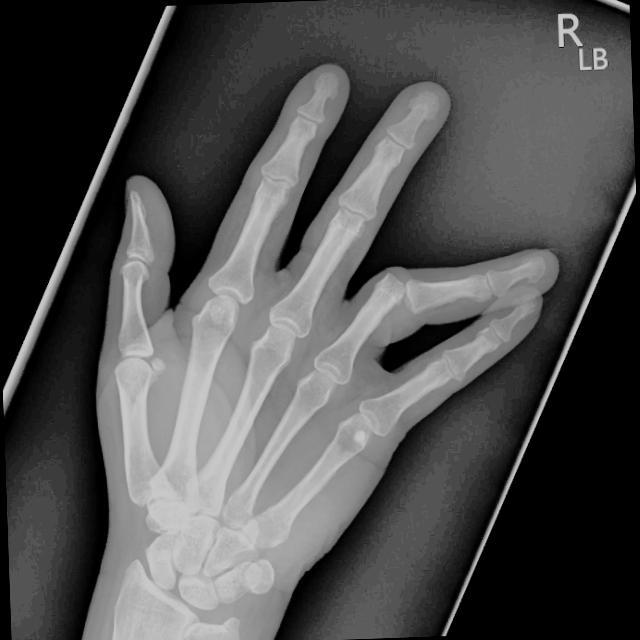Fracture Dislocation: (371, 275, 434, 320)
